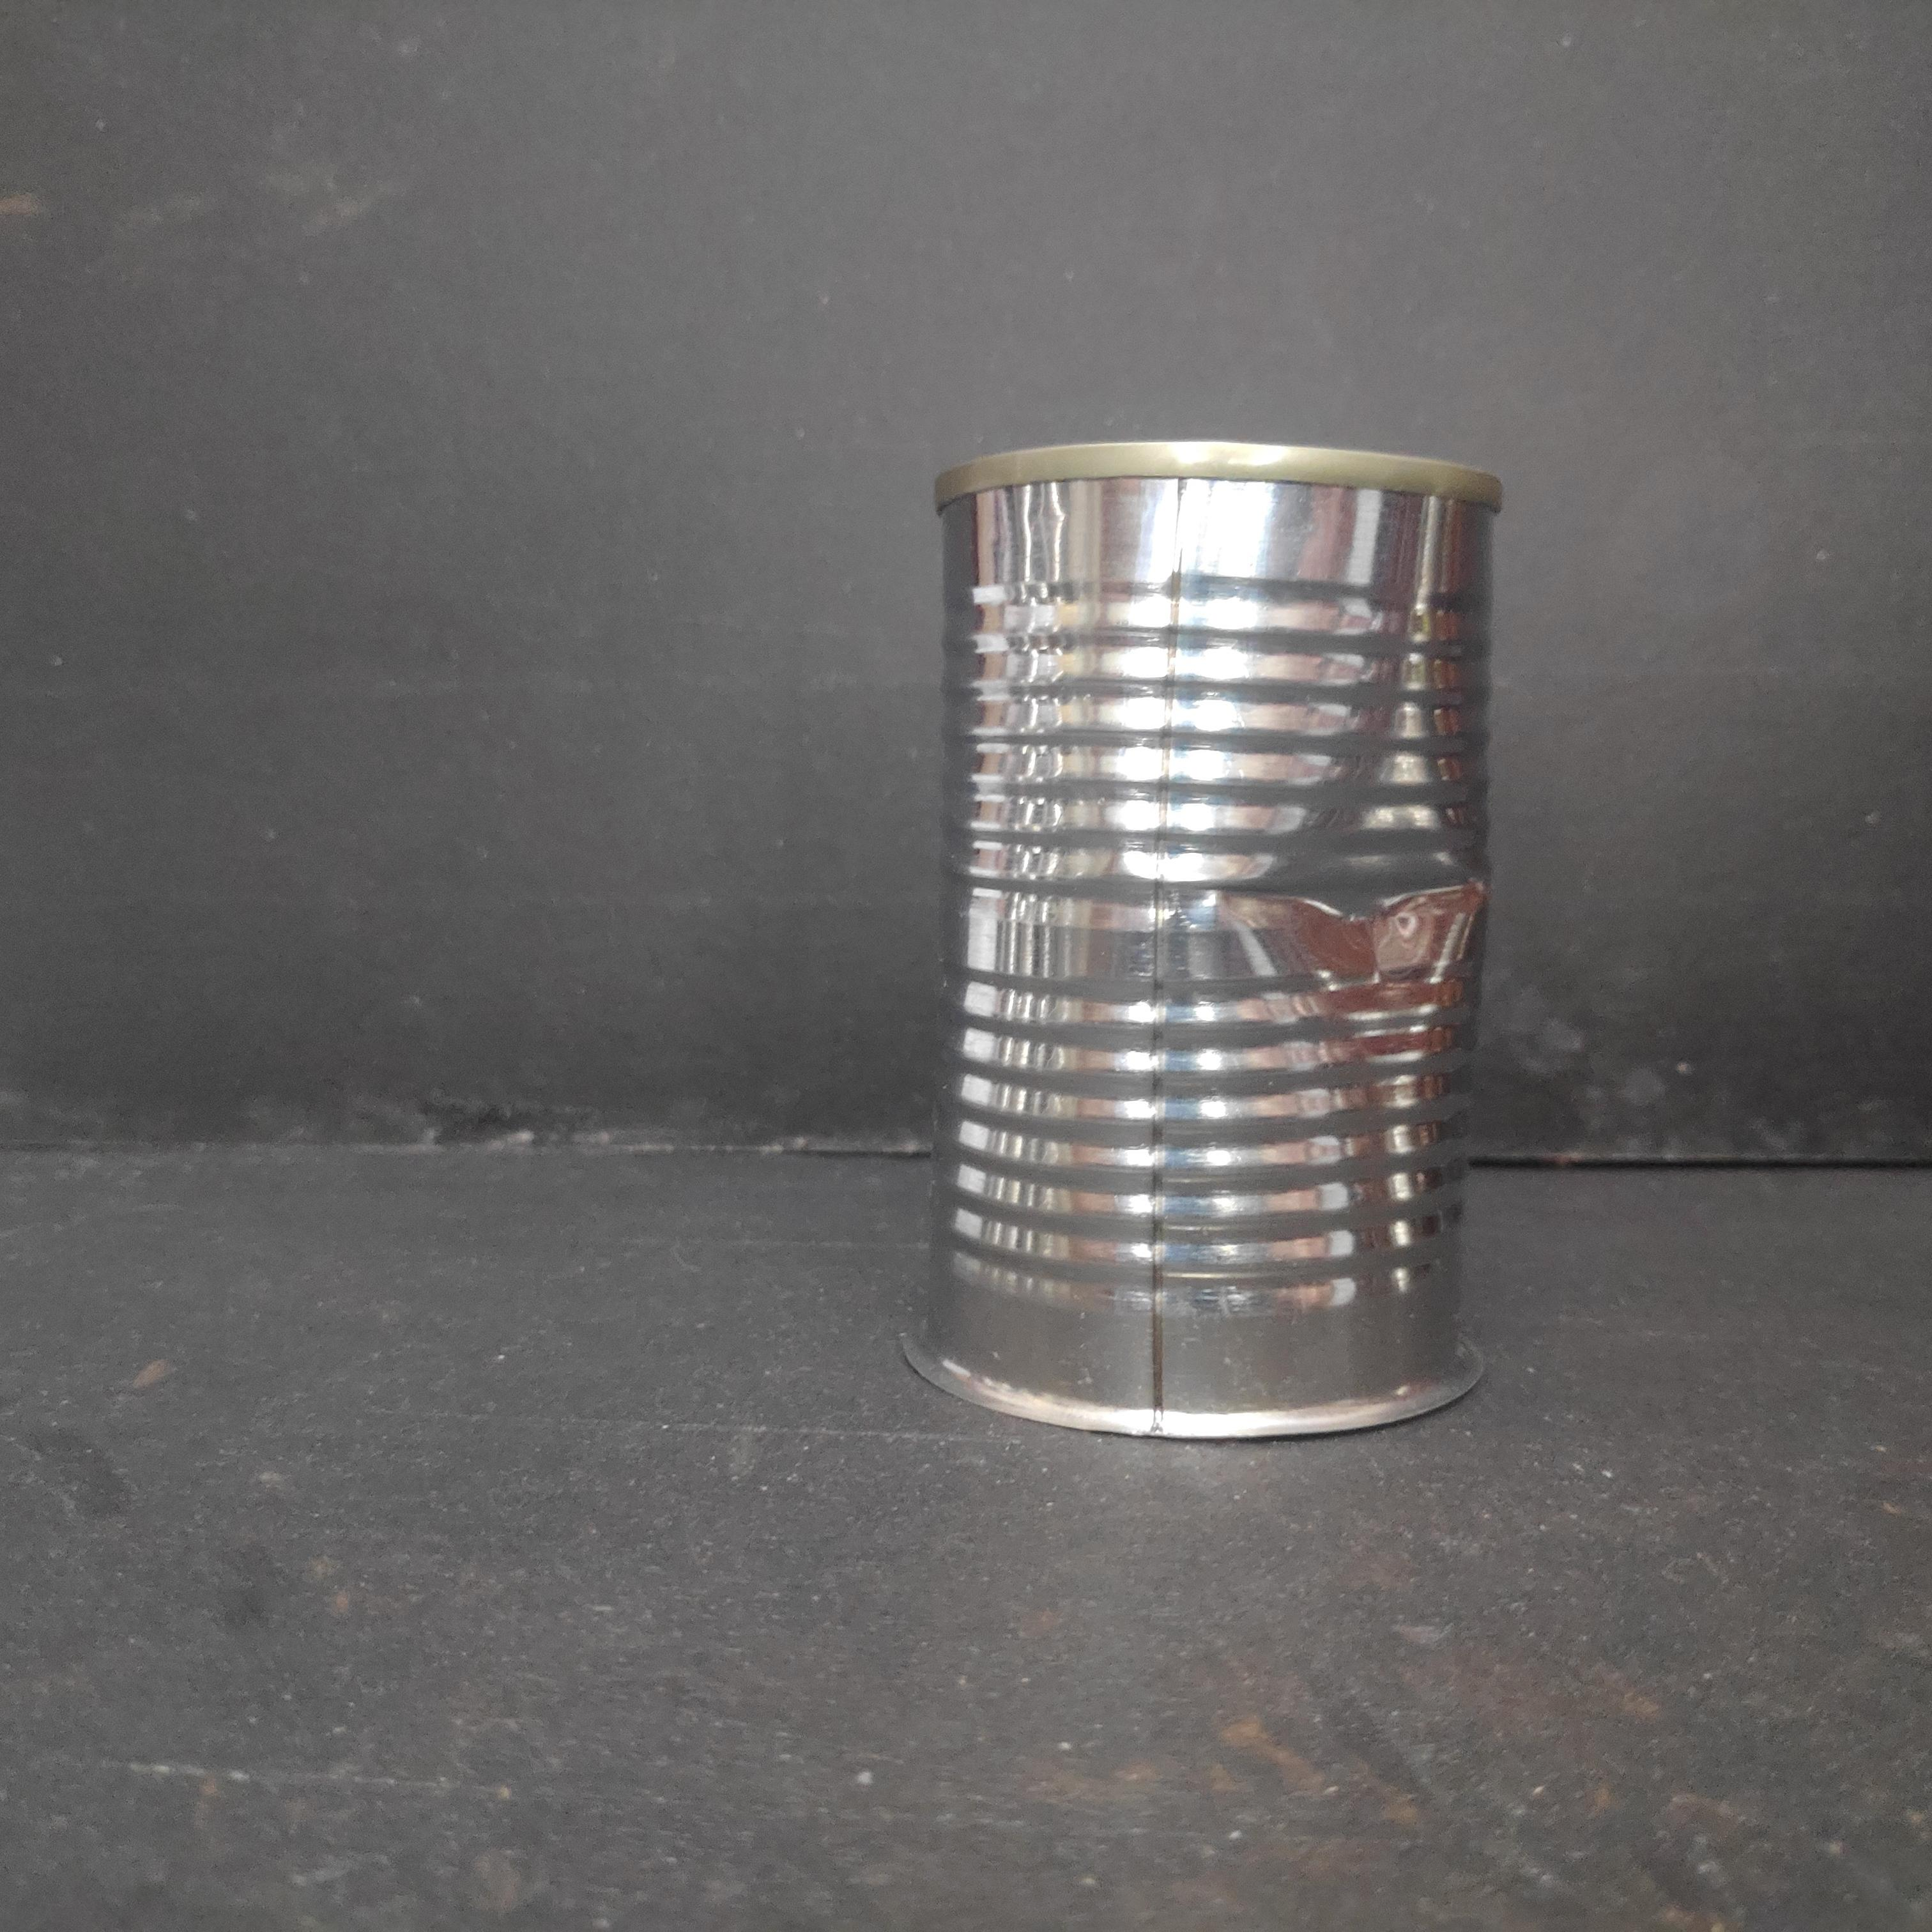Minor Defect: (922, 426, 1511, 1447)
